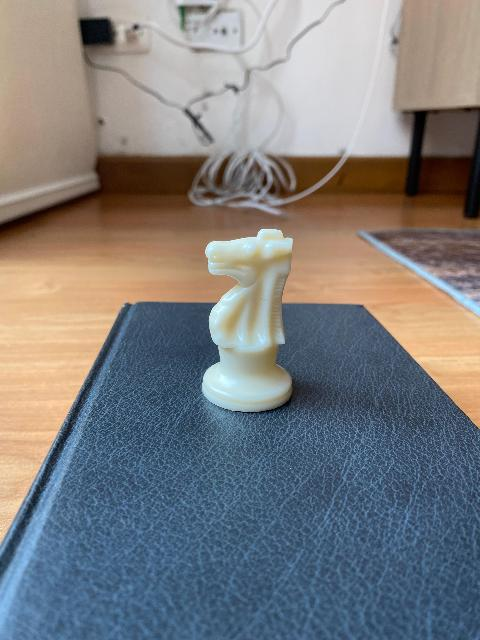white-knight: (201, 228, 295, 412)
